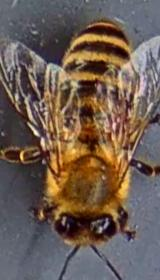varroa_mite: (97, 100, 135, 138)
